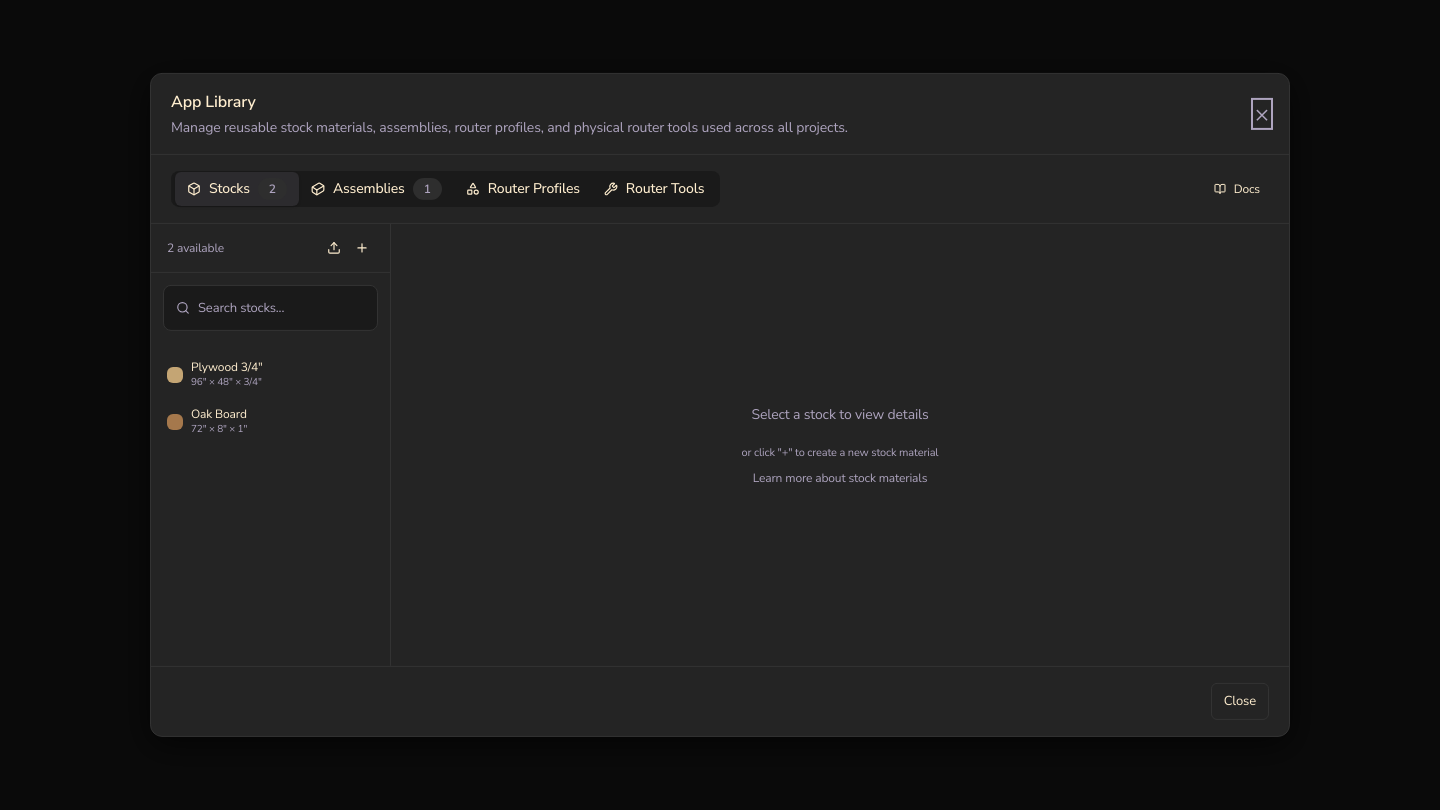
Test: StockLibraryModal › rendering › opens the searchable Router Profiles library
The image size is (1440, 810).
Expected: the text "Manage reusable stock materials, assemblies, router profiles, and physical router tools used across all projects." is shown, [171, 118, 848, 137]
Press the mouse on the tab "Router Profiles" at (523, 189), box [454, 173, 592, 205]
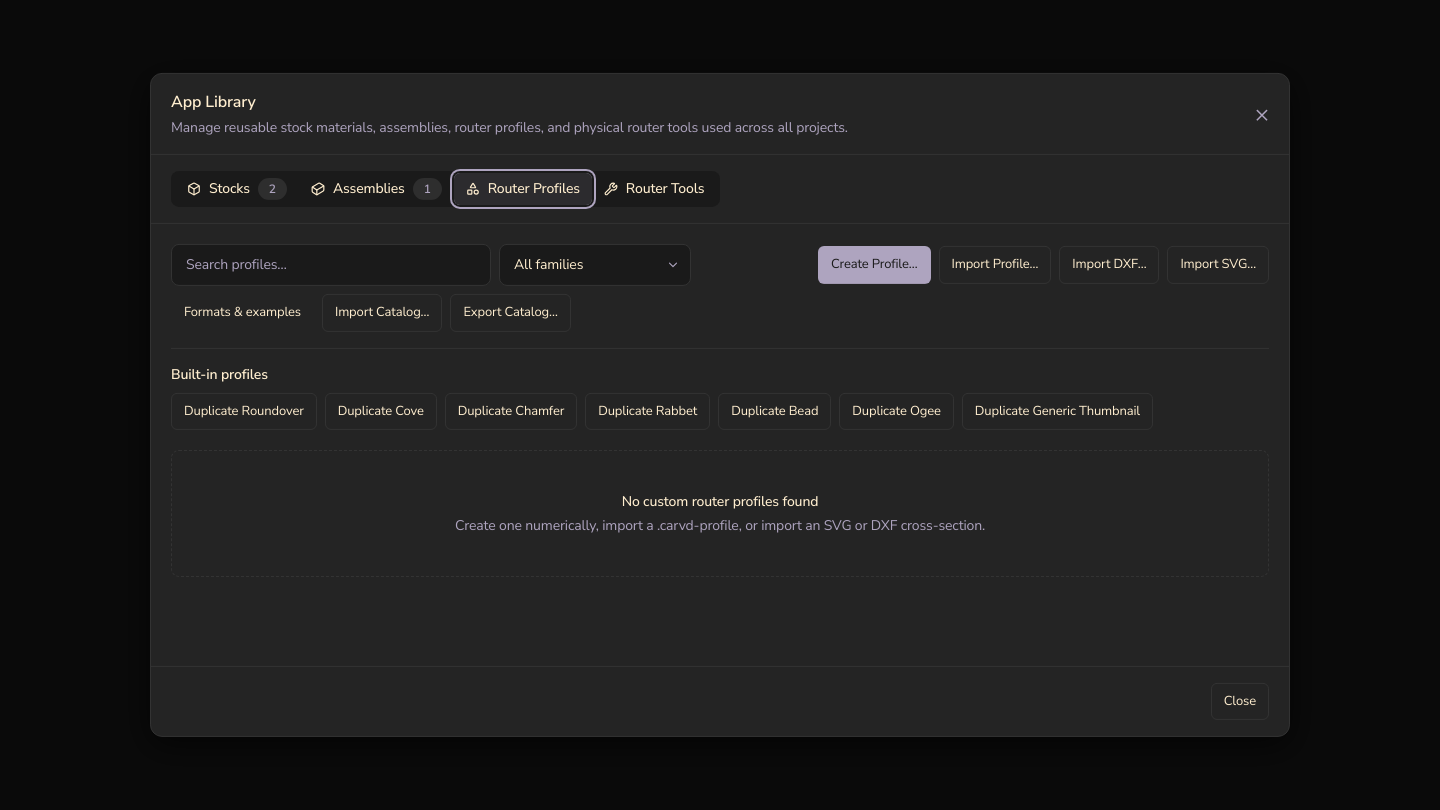
Expected: the field named "Search router profiles" is shown, [171, 244, 491, 286]
Expected: the button "Import DXF…" is shown, [1059, 246, 1160, 284]
Expected: the button "Import SVG…" is shown, [1167, 246, 1269, 284]
